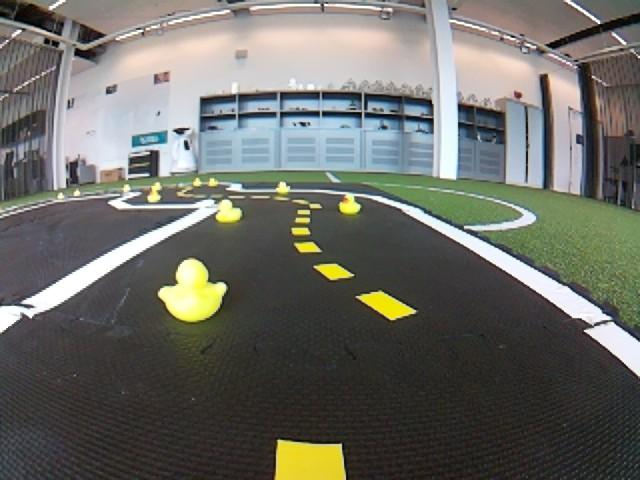Duckies: (158, 258, 226, 321), (216, 200, 242, 223), (338, 193, 361, 215), (146, 189, 161, 202), (276, 182, 291, 194), (208, 178, 218, 187), (122, 184, 131, 192), (193, 178, 202, 186), (153, 183, 163, 190), (73, 189, 81, 197), (57, 192, 64, 200)
